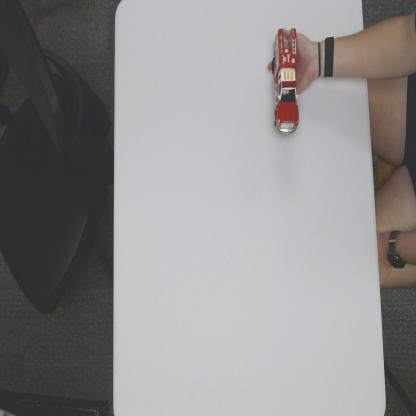Firetruck: (271, 26, 299, 136)
